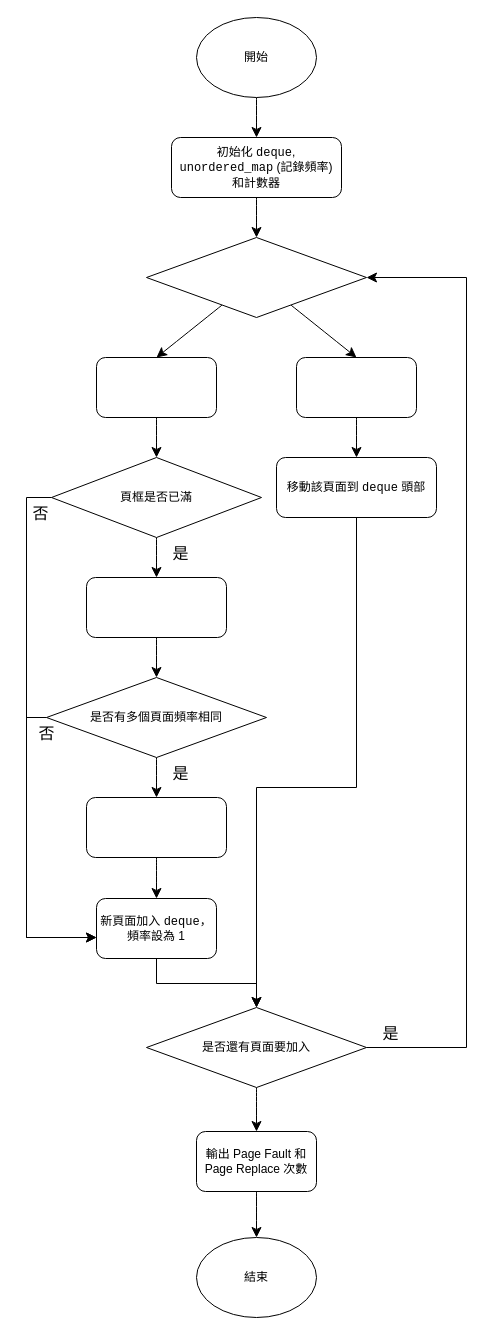
The diagram is 494 pixels wide and 1335 high, and some of its shapes have lost their labels. Here are the shapes that lost their labels. From the top down, the centre of each, then its label:
At (x=256, y=277): "頁面是否存在於 deque 中？".
At (x=156, y=387): "增加 Page Fault 計數".
At (x=356, y=387): "增加該頁面的頻率".
At (x=156, y=607): "找到頻率最低的頁面".
At (x=156, y=827): "移除最久未使用的頁面".
